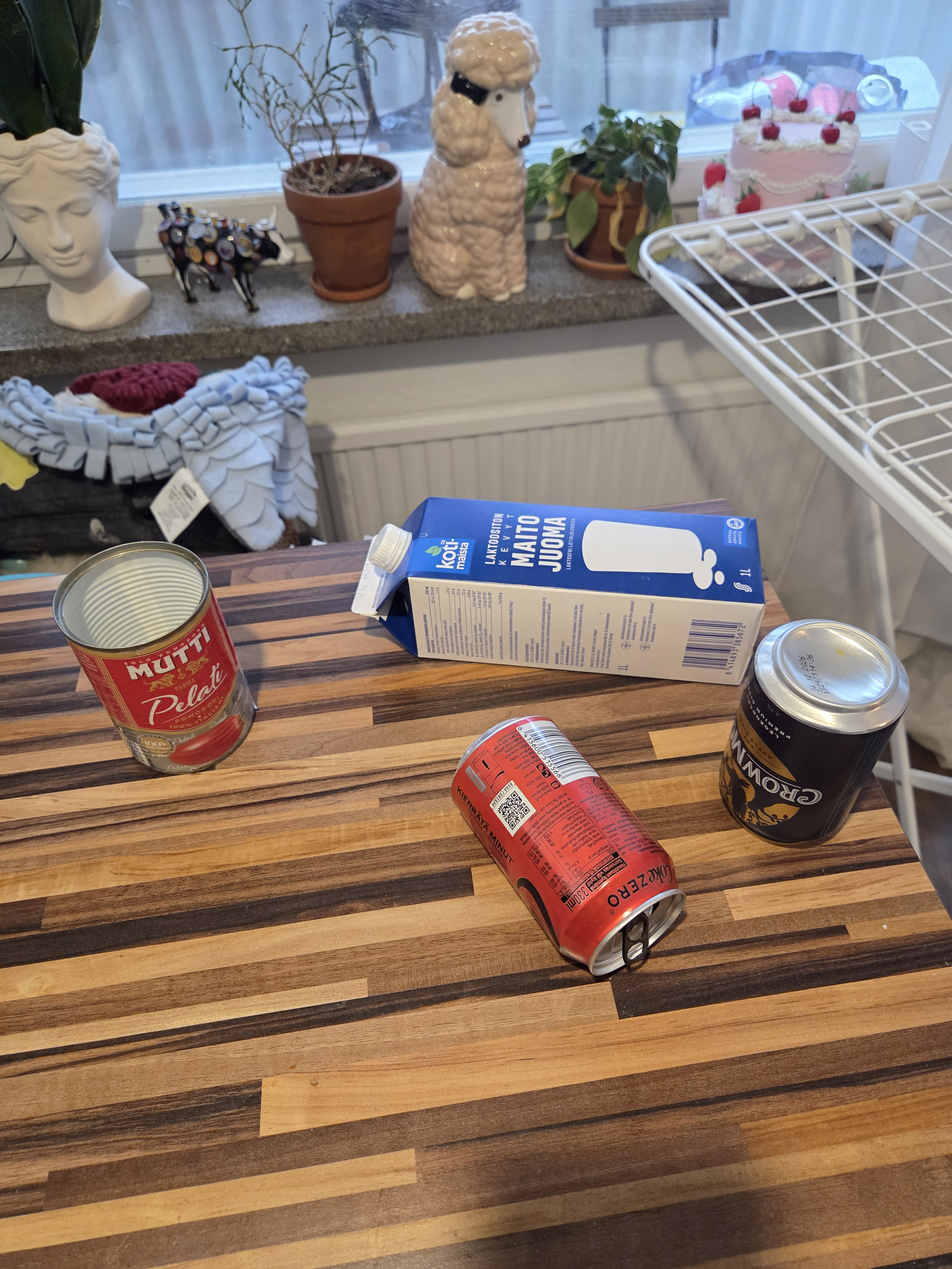Dryckeskartong: (350, 496, 768, 686)
Konservburk: (52, 540, 257, 775)
Pantburk: (411, 709, 690, 1012), (718, 618, 910, 845)
